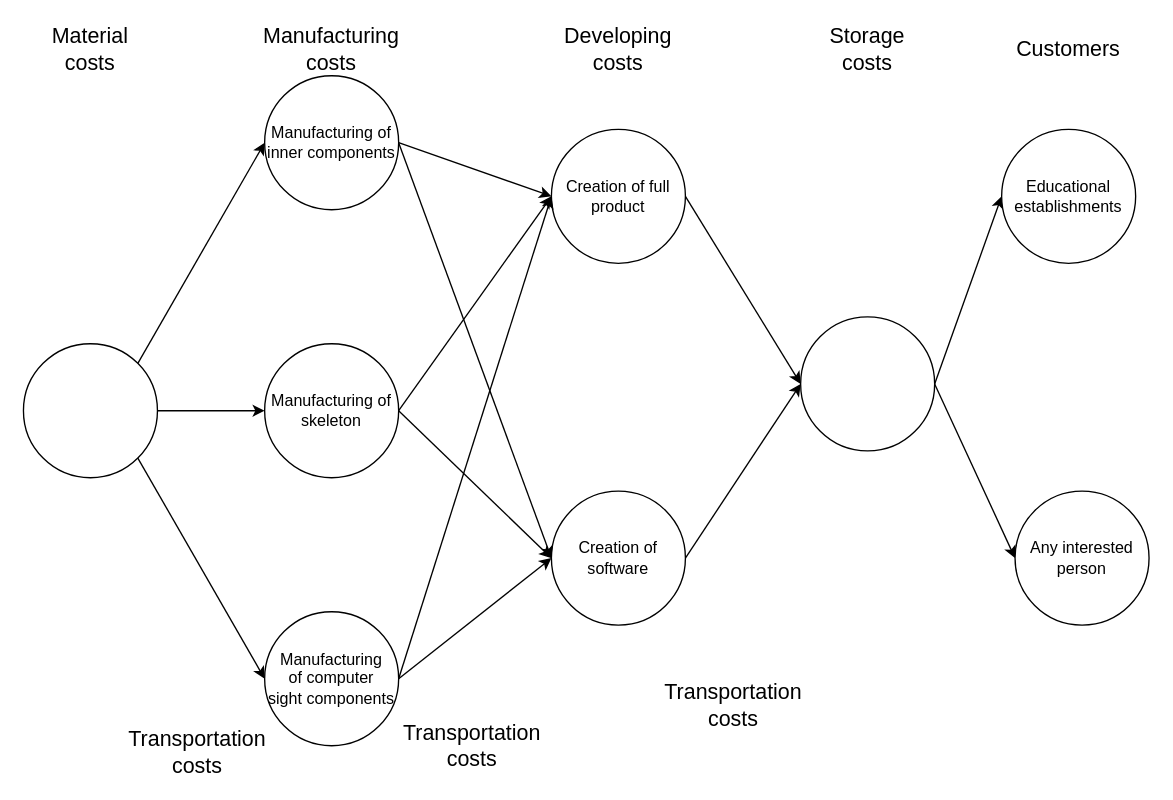
This 1173x800 diagram has some shape labels left out. The box of each missing label's shape, as (x1, y1, x2, y2) in pixels:
Invertory for product storage: (799, 316, 935, 451)
Suppliers of components: (22, 342, 157, 478)
